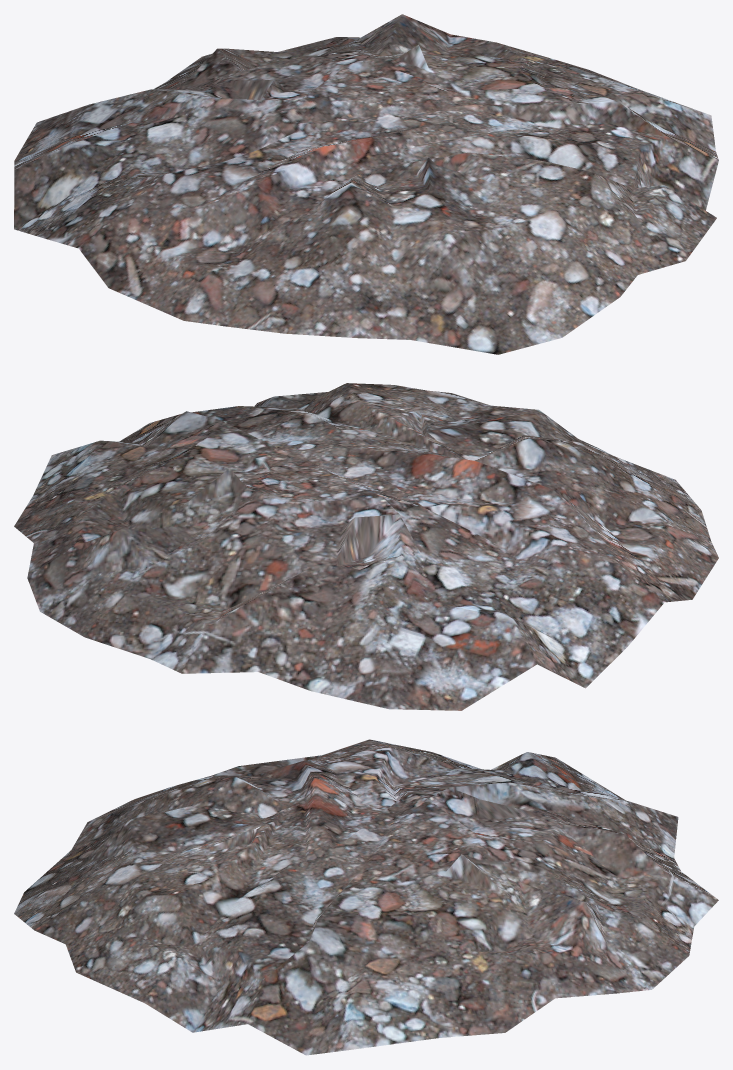
Rendered from prop_rubble_pile.glb.
The picture shows the model from 3 angles, top to bottom: view 1: azimuth 30°, elevation 25°; view 2: azimuth 150°, elevation 25°; view 3: azimuth 270°, elevation 25°; orthographic projection. The views are drawn at different scales.
Parts seen in each view (by area): view 1: prop_rubble_pile_mesh; view 2: prop_rubble_pile_mesh; view 3: prop_rubble_pile_mesh.
Boxes of the visible parts, box(x1,y1,x2,y2) form: prop_rubble_pile_mesh: box(14, 14, 718, 354); prop_rubble_pile_mesh: box(14, 383, 718, 710); prop_rubble_pile_mesh: box(14, 739, 718, 1055).
Bounding box in the file's own units: 5.22 × 0.9 × 5.25.
Materials: 1 (1 with a texture image).
